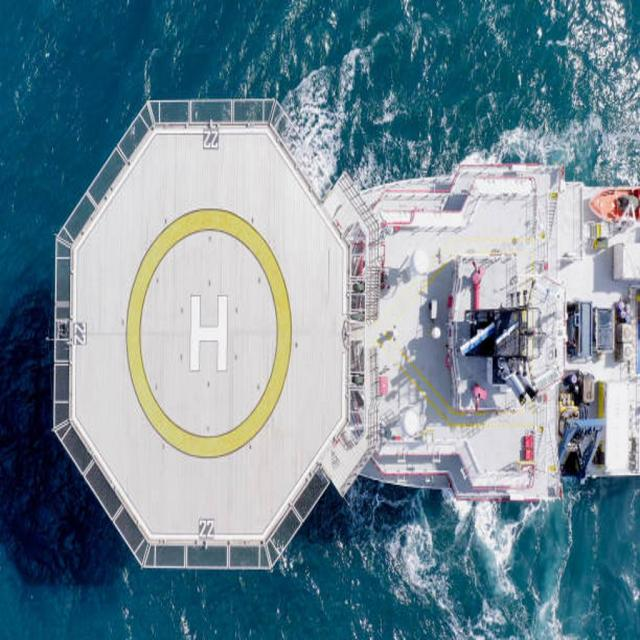helipad: (122, 206, 292, 458)
